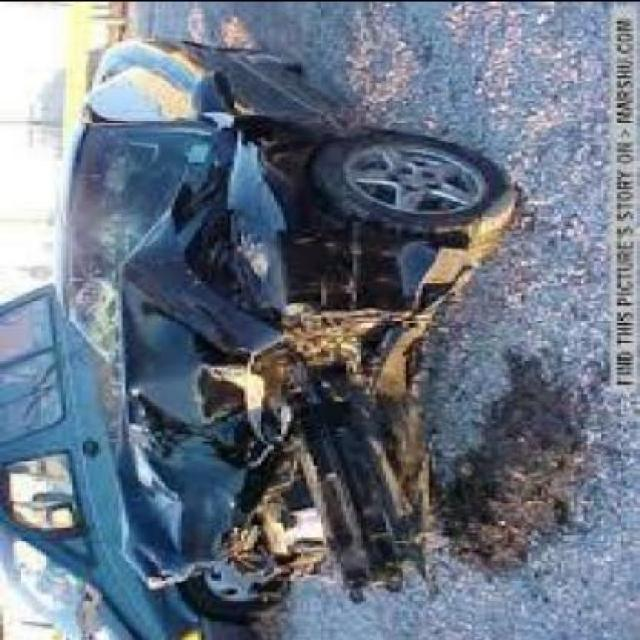damage: (64, 114, 471, 600)
